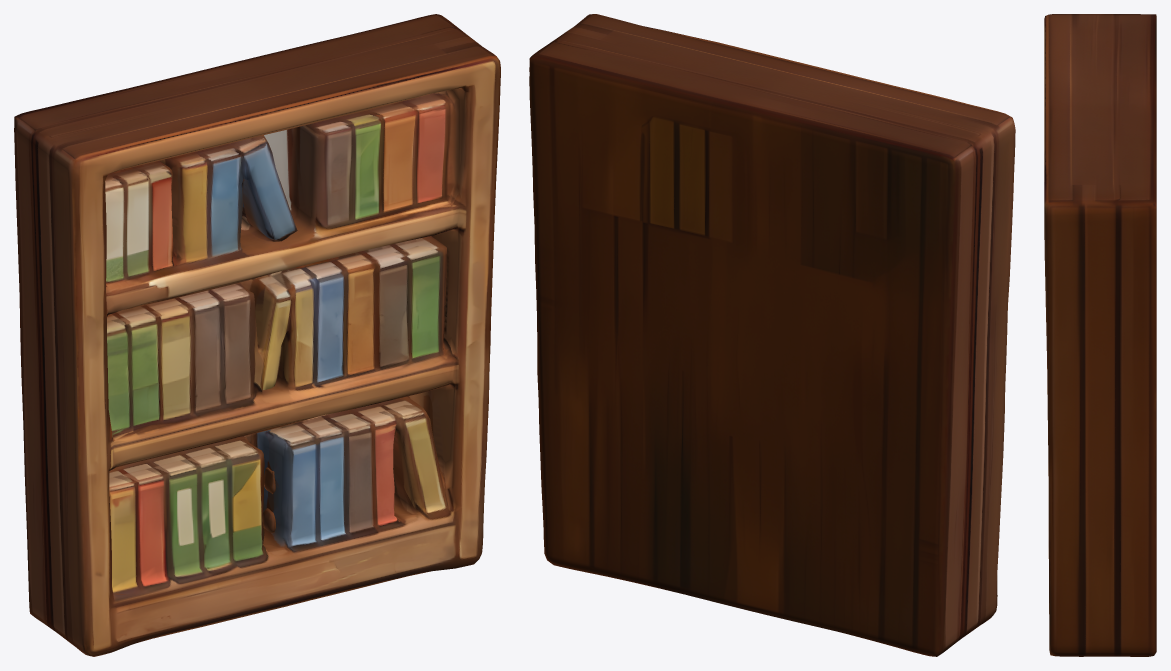
The model's file is bookshelf.obj.
The picture shows the model from 3 angles, left to right: view 1: azimuth 30°, elevation 25°; view 2: azimuth 150°, elevation 25°; view 3: azimuth 270°, elevation 25°; orthographic projection. The views are drawn at different scales.
Visible parts, largest first — view 1: 97dc4e96-b46a-4ebd-91f8-e6c392a5e7fc; view 2: 97dc4e96-b46a-4ebd-91f8-e6c392a5e7fc; view 3: 97dc4e96-b46a-4ebd-91f8-e6c392a5e7fc.
Part boxes in pixels (x1=…): 97dc4e96-b46a-4ebd-91f8-e6c392a5e7fc: x1=14, y1=14, x2=500, y2=656; 97dc4e96-b46a-4ebd-91f8-e6c392a5e7fc: x1=529, y1=14, x2=1015, y2=656; 97dc4e96-b46a-4ebd-91f8-e6c392a5e7fc: x1=1044, y1=14, x2=1156, y2=656.
Bounding box in the file's own units: 1.87 × 2.1 × 0.4612.
Materials: 1 (1 with a texture image).
